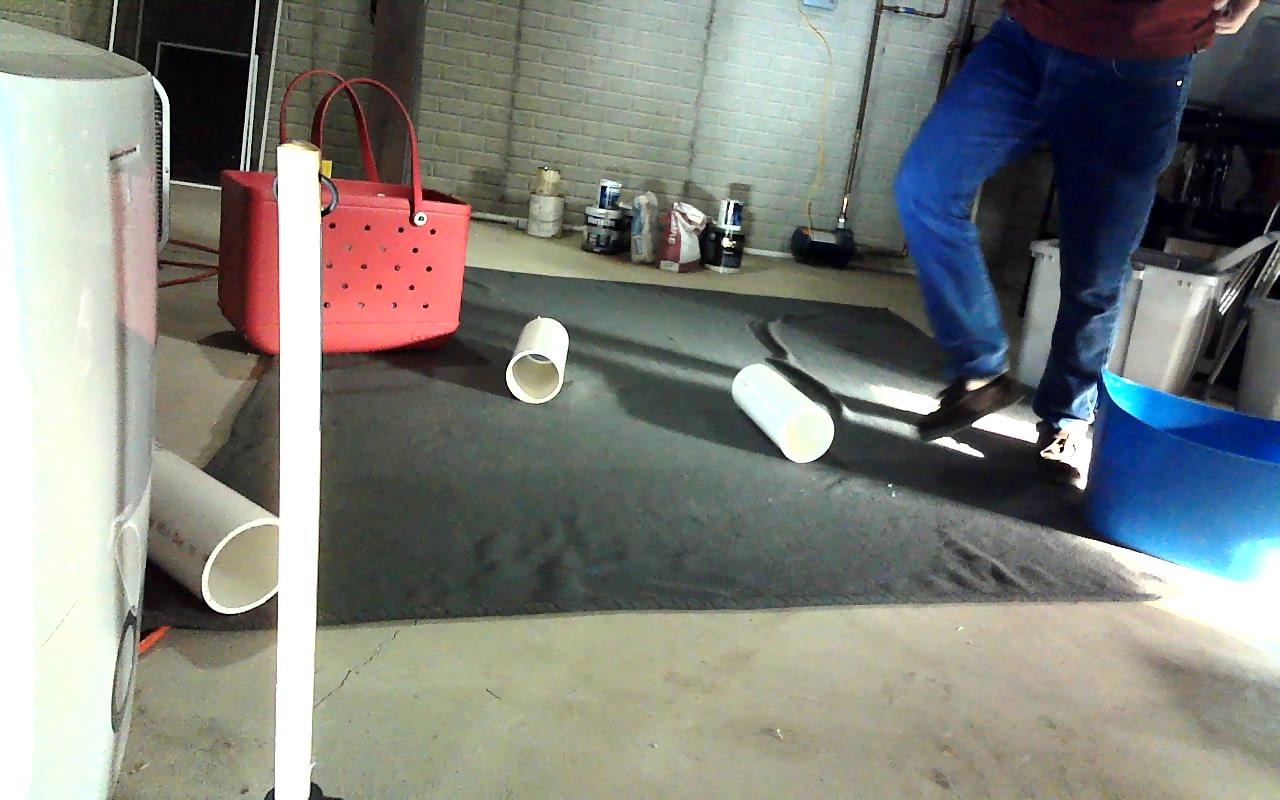coral: (142, 438, 280, 612), (731, 363, 833, 463), (505, 318, 568, 403)
